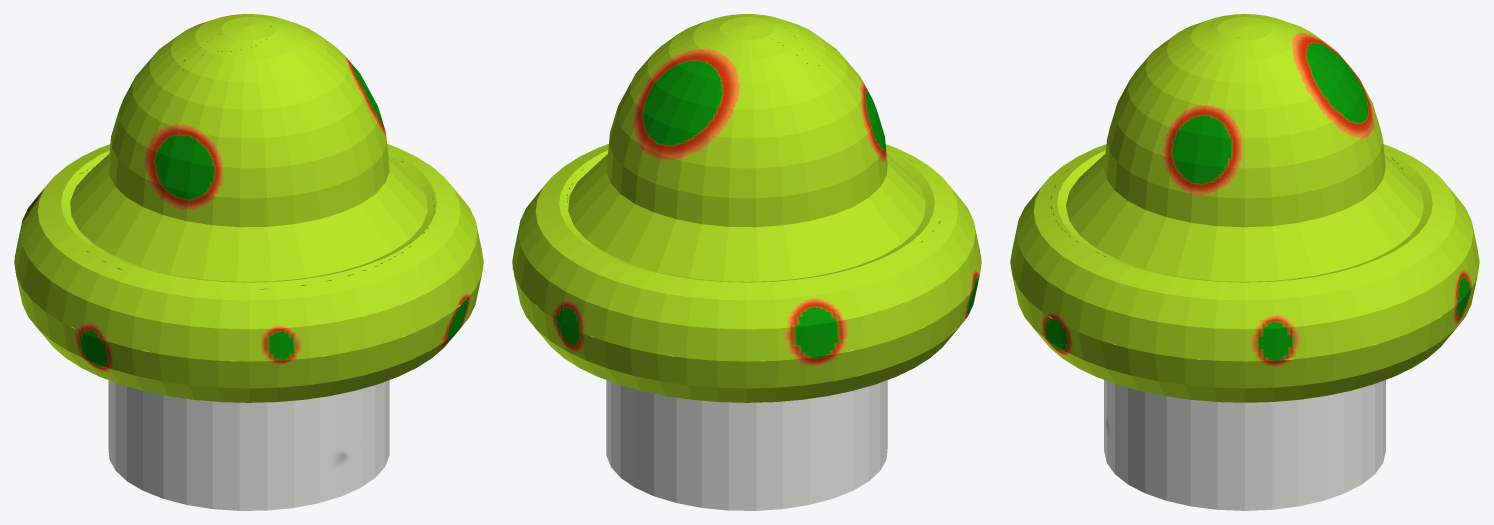
File: upshroom.obj
3 renders of one model, left to right at view 1: azimuth 30°, elevation 25°; view 2: azimuth 150°, elevation 25°; view 3: azimuth 270°, elevation 25°, orthographic.
Parts seen in each view (by area): view 1: Mushroom; view 2: Mushroom; view 3: Mushroom.
Part boxes in pixels (x1,y1,x2,y2): Mushroom: (14,14,483,510); Mushroom: (512,14,981,510); Mushroom: (1010,14,1479,510).
Size of the model in its own units: 0.8 by 0.8 by 0.8.
1 material, 1 textured.
